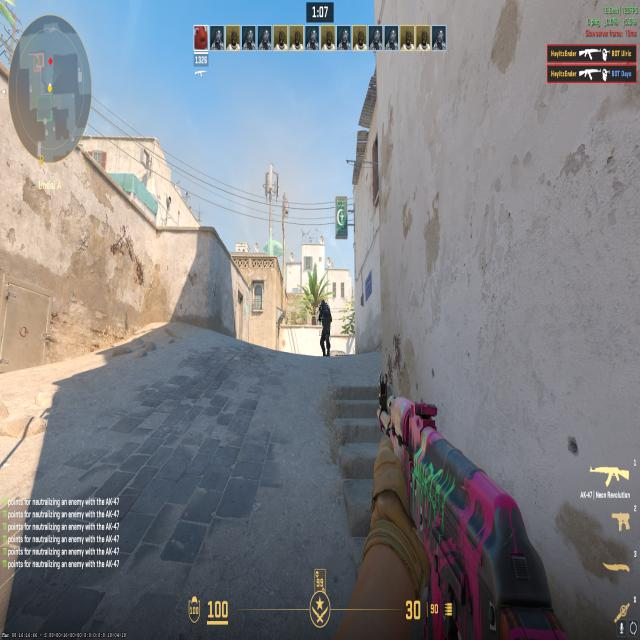ct: (310, 294, 337, 362)
